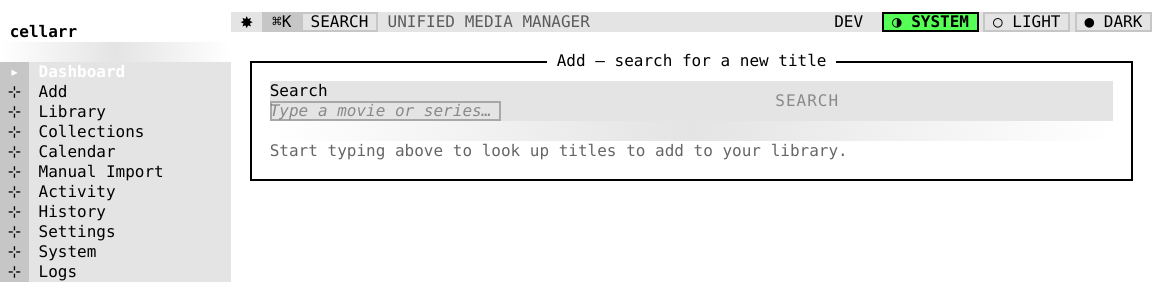
Test case: Add / search-new screen › looks up titles on input (both movie + series) and renders a results table
In the field named "add-search": (385, 111) [270,101,501,121], type "blade"
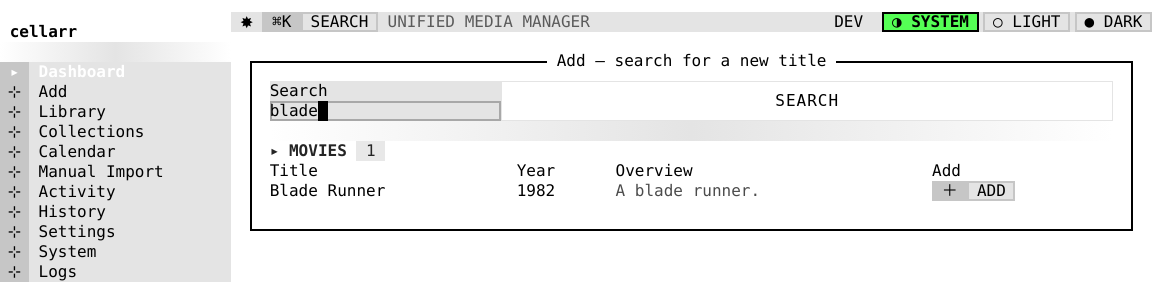
Expected: the text "Blade Runner" is shown, [270,181,507,201]
Expected: the text "1982" is shown, [507,181,606,201]
